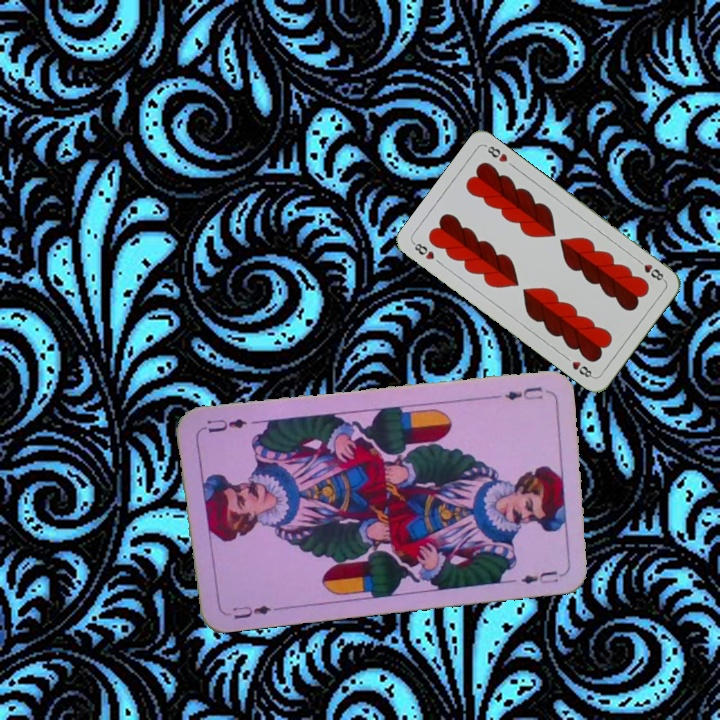EU: (221, 601, 273, 621), (500, 382, 546, 403)
H8: (632, 255, 667, 283), (409, 238, 438, 262)
